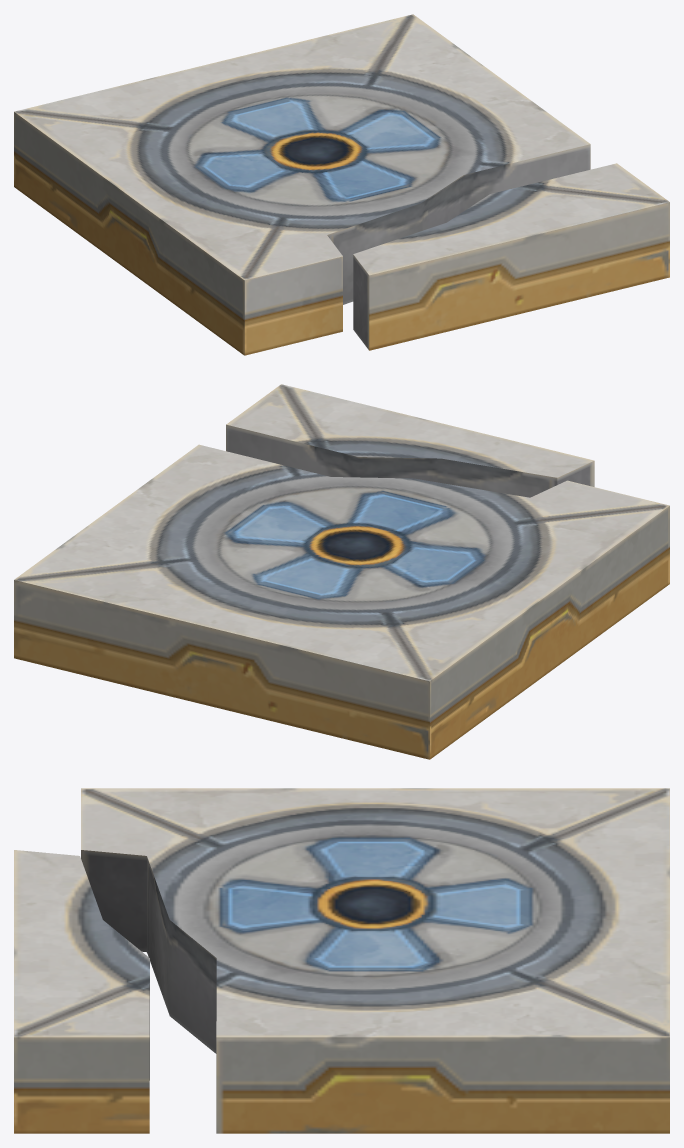
The model's file is sc_wjgc_004_002.FBX.
3 renders of one model, top to bottom at view 1: azimuth 30°, elevation 25°; view 2: azimuth 150°, elevation 25°; view 3: azimuth 270°, elevation 25°, orthographic. The views are drawn at different scales.
Visible parts, largest first — view 1: sc_wjgc_004_002; view 2: sc_wjgc_004_002; view 3: sc_wjgc_004_002.
Part boxes in pixels (x1=…): sc_wjgc_004_002: x1=14, y1=14, x2=669, y2=355; sc_wjgc_004_002: x1=14, y1=384, x2=669, y2=759; sc_wjgc_004_002: x1=14, y1=788, x2=669, y2=1133.
Bounding box in the file's own units: 2.75 × 0.4963 × 3.07.
